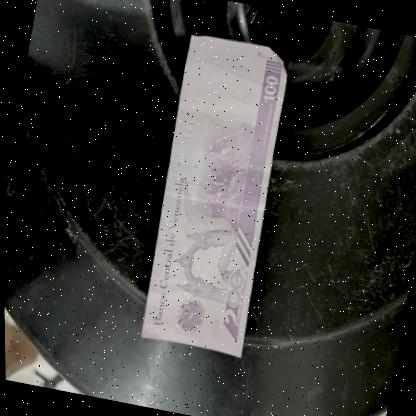one_hundred-back-vef: (129, 31, 299, 358)
